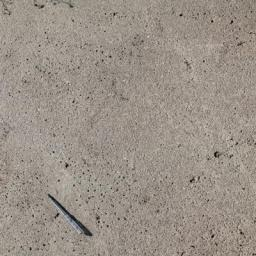FOD: (47, 192, 92, 238)
